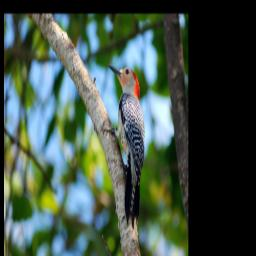Woodpecker: (101, 65, 145, 229)
